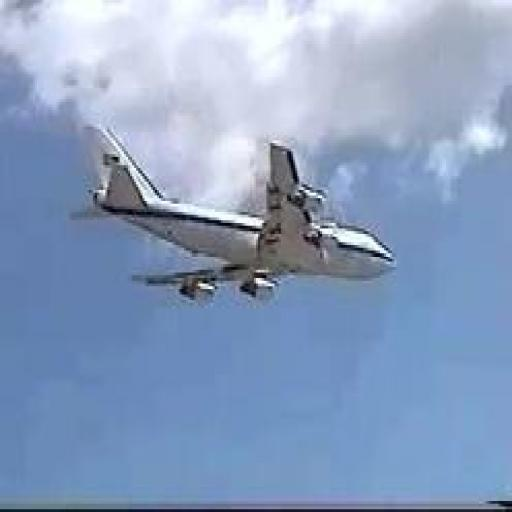aircraft: (83, 123, 400, 311)
